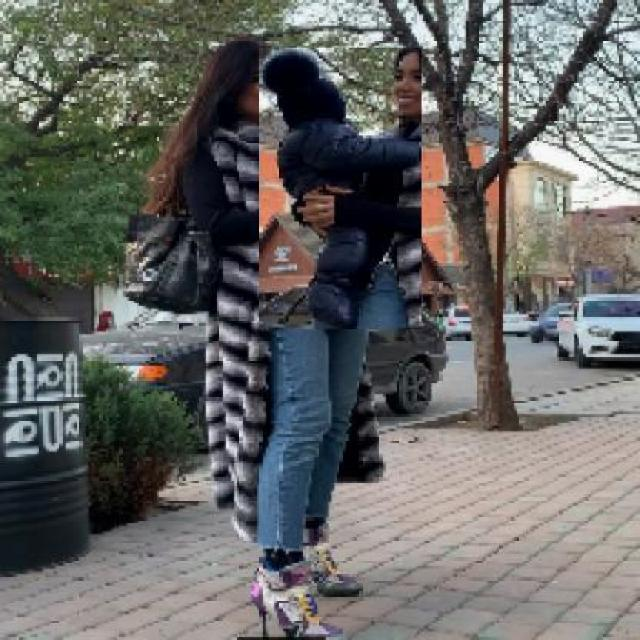child: (258, 48, 422, 332), (255, 65, 288, 118)
